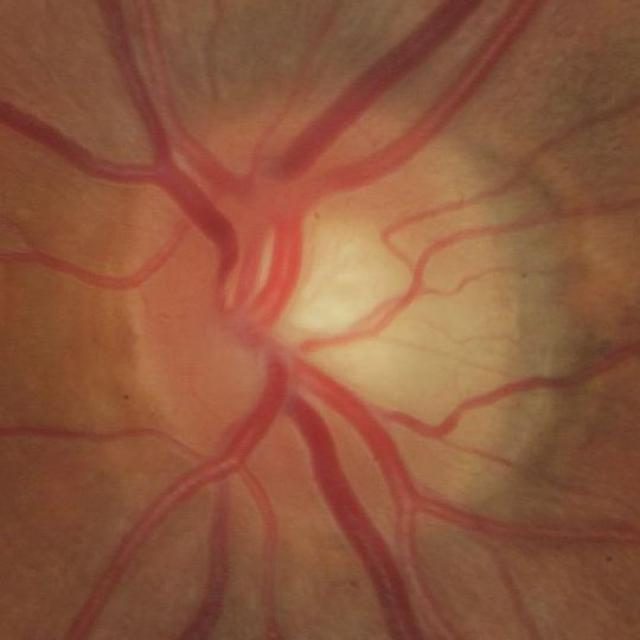OC: (256, 212, 376, 340)
OD: (123, 92, 518, 547)
